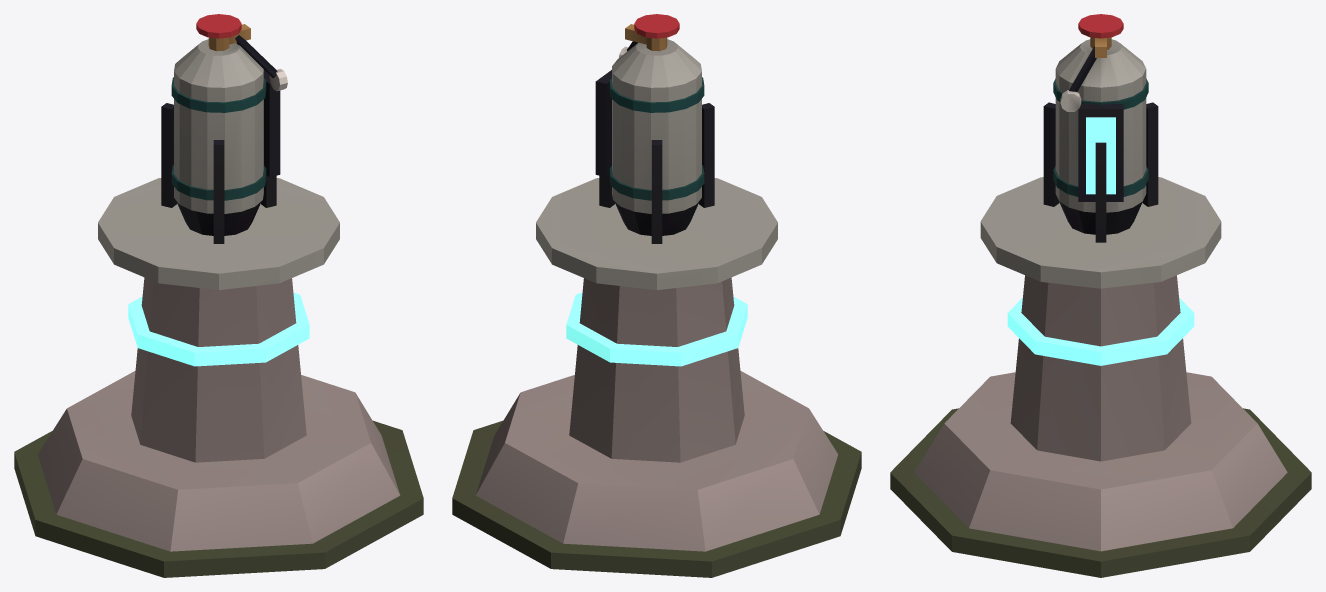
The model's file is prop.cure-canister-pedestal.glb.
3 renders of one model, left to right at view 1: azimuth 30°, elevation 25°; view 2: azimuth 150°, elevation 25°; view 3: azimuth 270°, elevation 25°, orthographic.
Parts seen in each view (by area): view 1: body; view 2: body; view 3: body.
Part boxes in pixels (bbox=[...]): body: bbox=[14, 14, 423, 577]; body: bbox=[452, 14, 861, 577]; body: bbox=[890, 14, 1311, 577].
Bounding box in the file's own units: 1.4 × 1.71 × 1.4.
